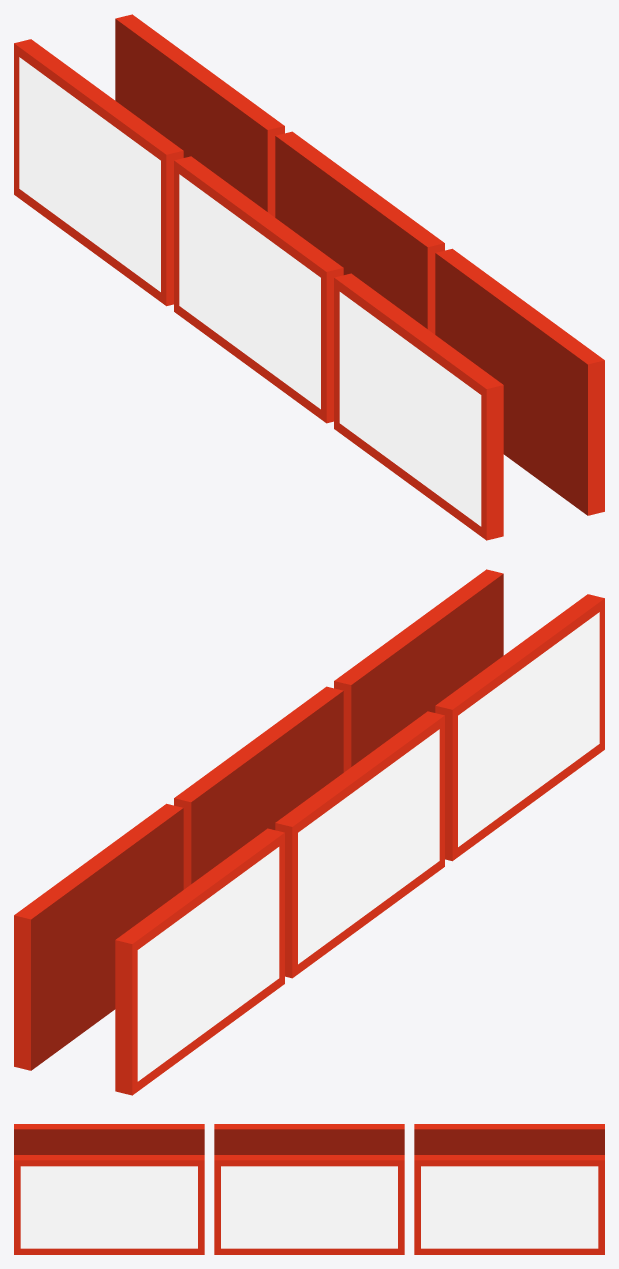
Rendered from raceway_banner_billboards.glb.
3 renders of one model, top to bottom at view 1: azimuth 30°, elevation 25°; view 2: azimuth 150°, elevation 25°; view 3: azimuth 270°, elevation 25°, orthographic. The views are drawn at different scales.
Visible parts, largest first — view 1: Cube.001; view 2: Cube.001; view 3: Cube.001.
Part boxes in pixels (<box>): Cube.001: <box>14,14,604,540</box>; Cube.001: <box>14,569,604,1095</box>; Cube.001: <box>14,1124,604,1254</box>.
Size of the model in its own units: 0.8184 by 1 by 5.66.
